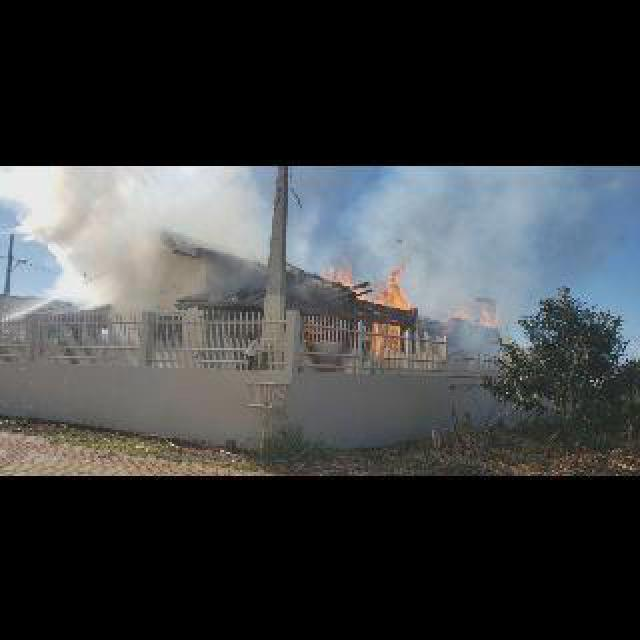Fire: (320, 264, 410, 348), (450, 290, 500, 326)
Smoke: (336, 164, 602, 290), (90, 172, 266, 326)
